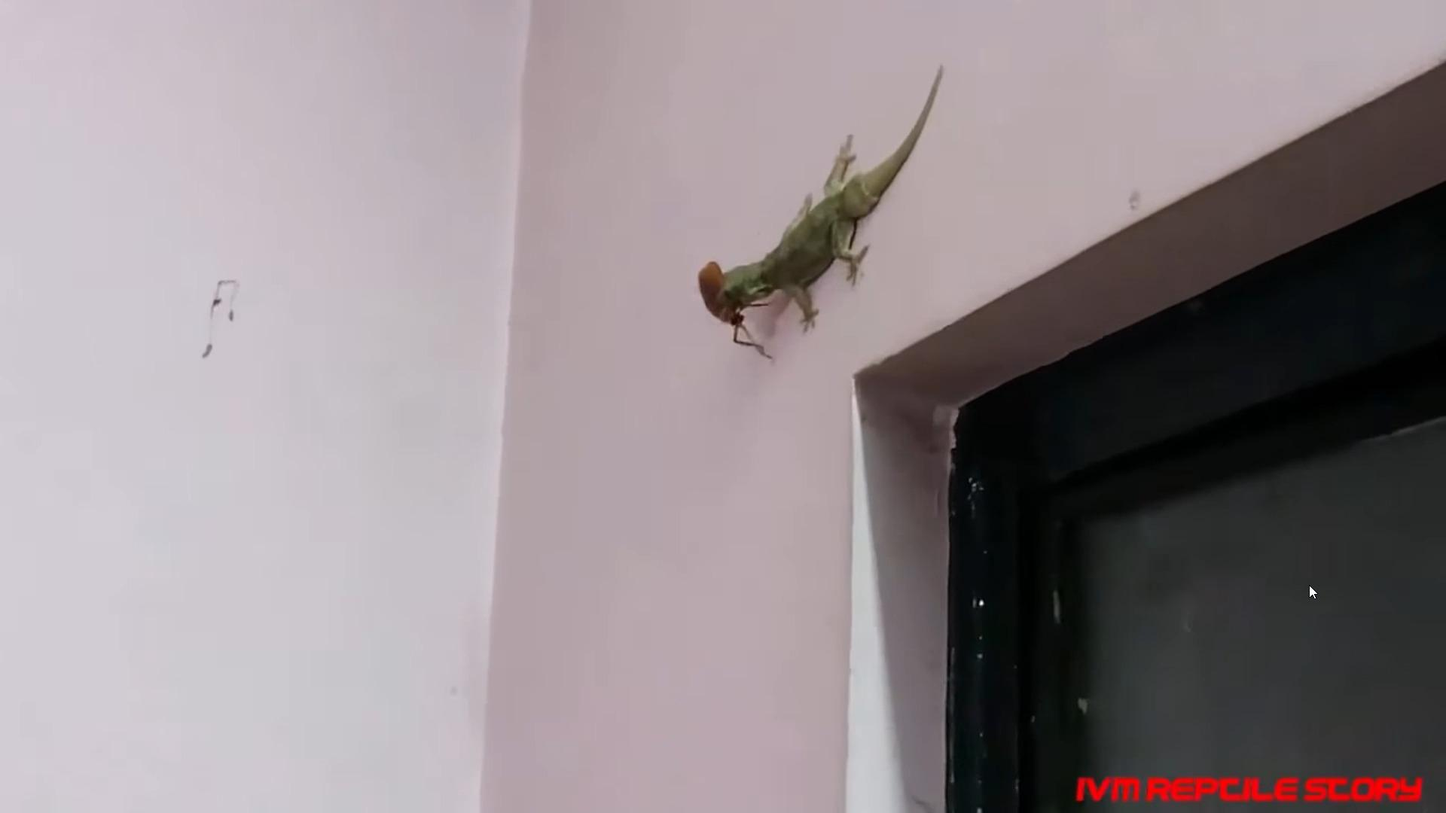cockroach: (701, 257, 742, 340)
lizard: (748, 175, 904, 268)
